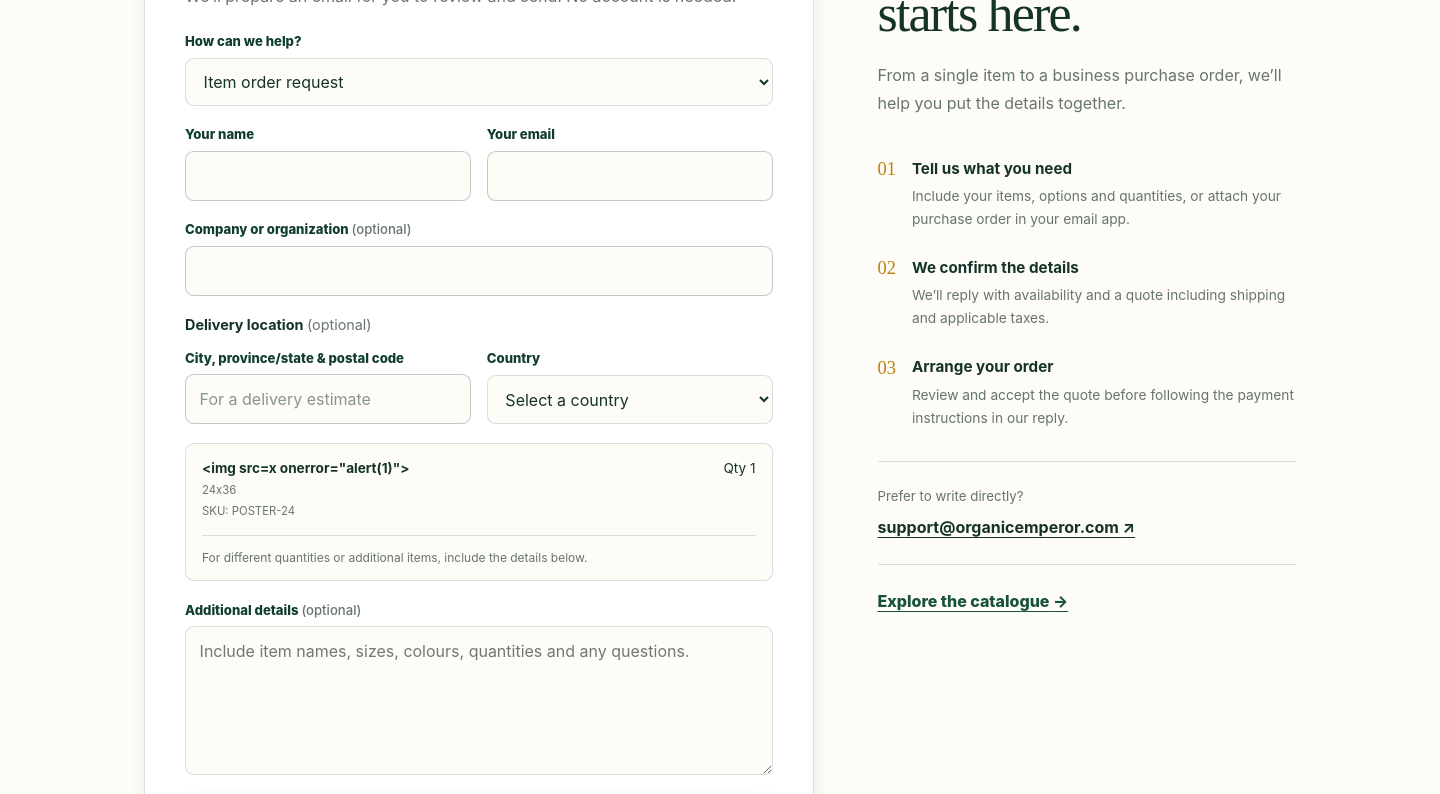
Test case: Contact portal › validates required fields and renders product query text without executing HTML
(page scrolled)
Submit the form
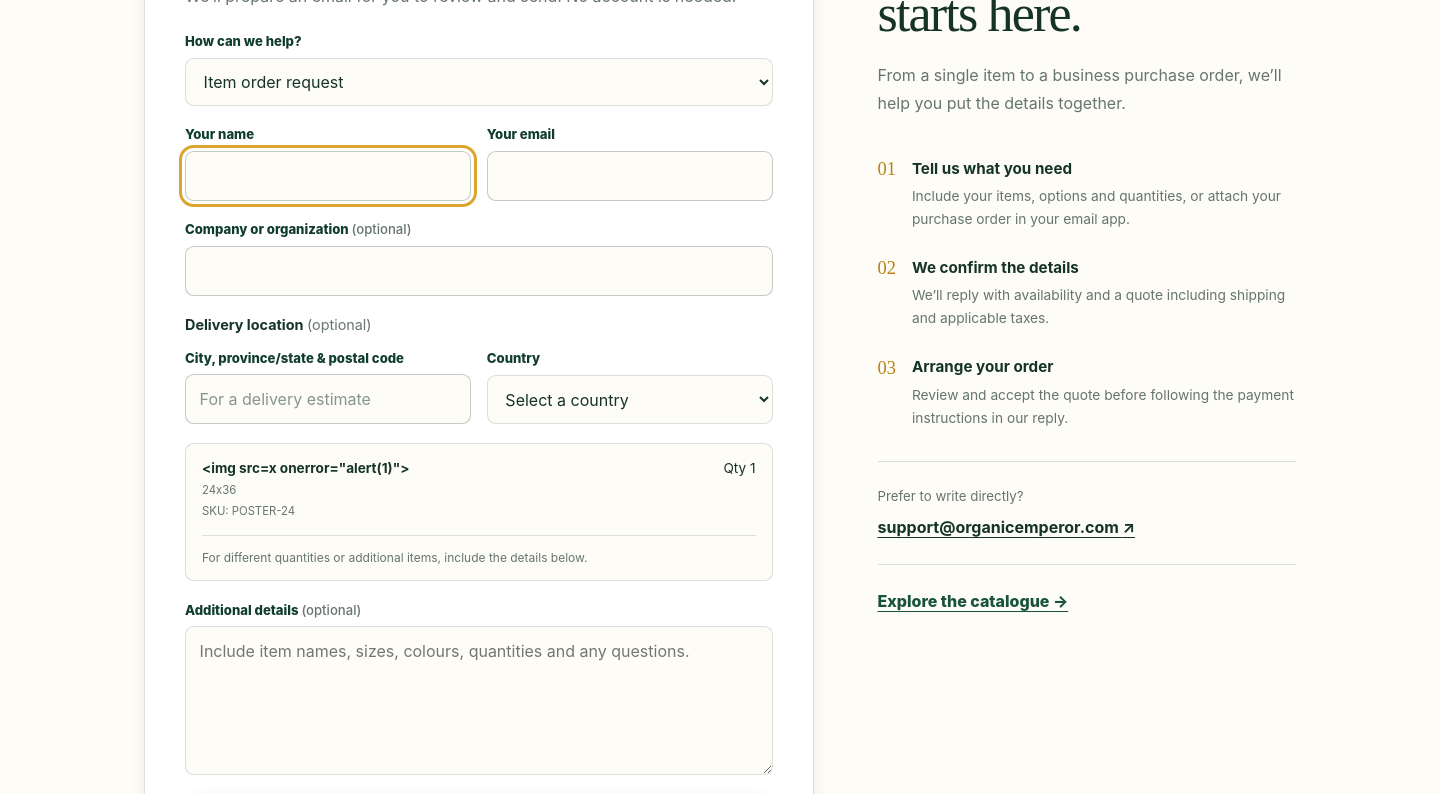
Type "Avery Stone" into the field with id "contact-name" at (328, 176), box [185,151,471,201]
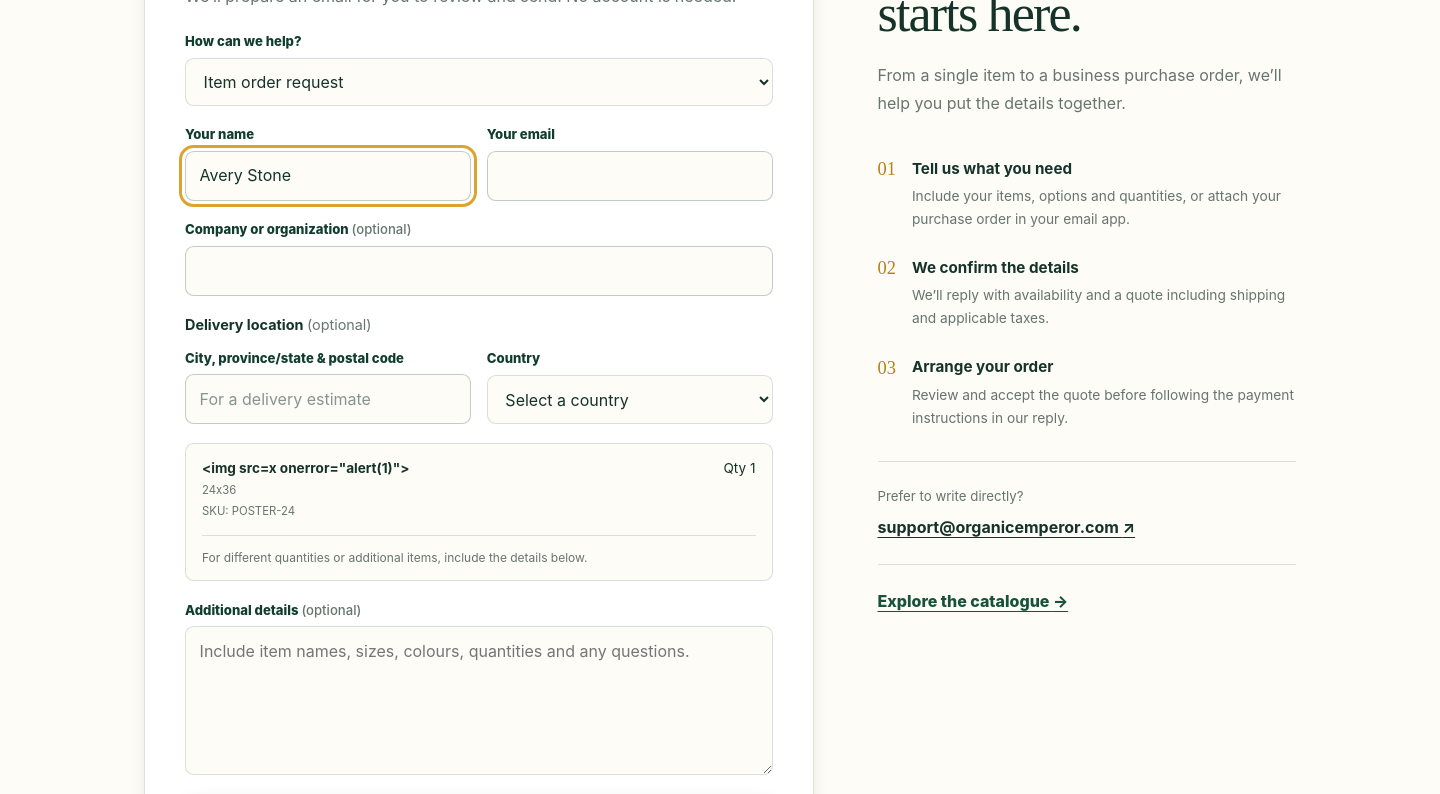
Type "avery@example.com" into the field with id "contact-email" at (630, 176), box [487,151,773,201]
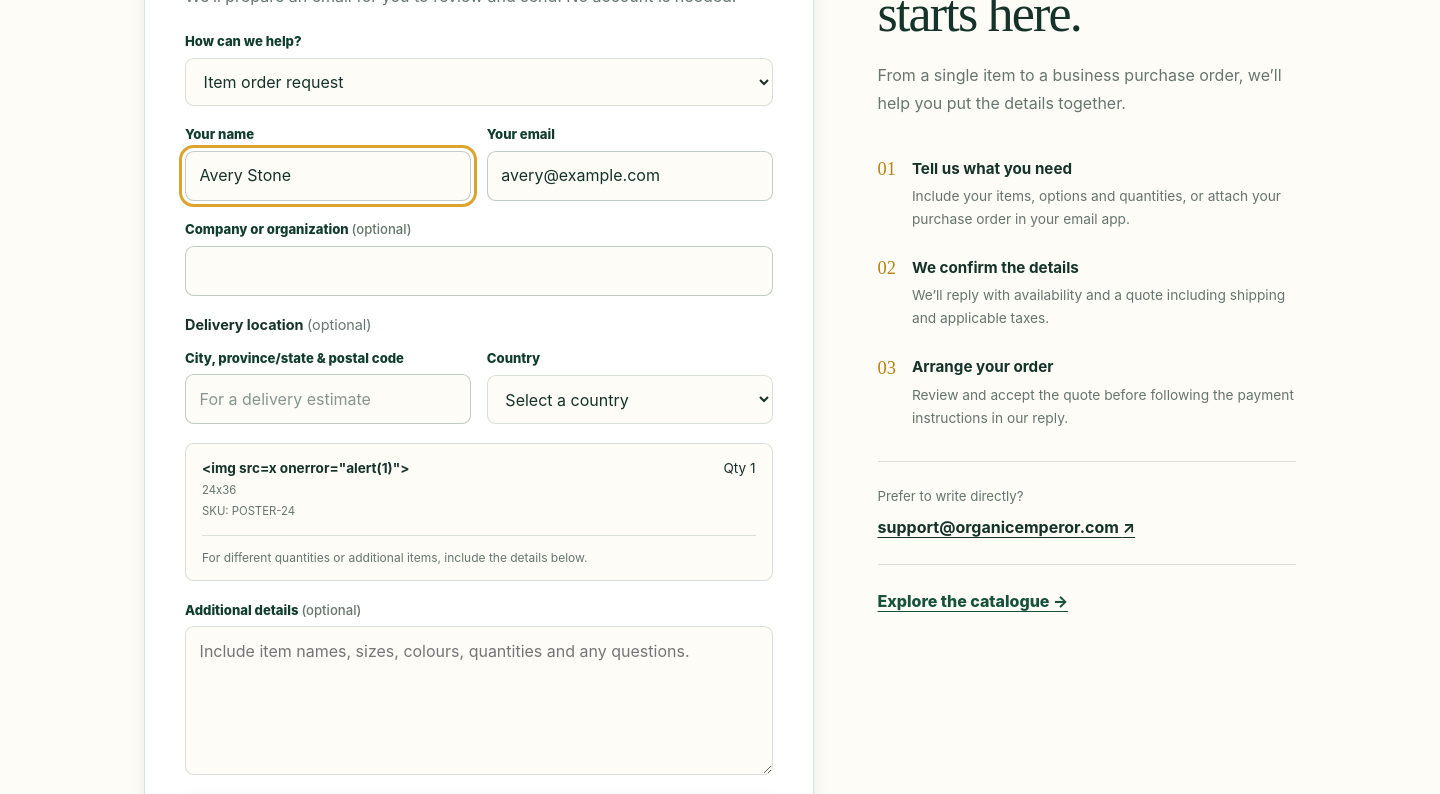
Submit the form
(page scrolled)
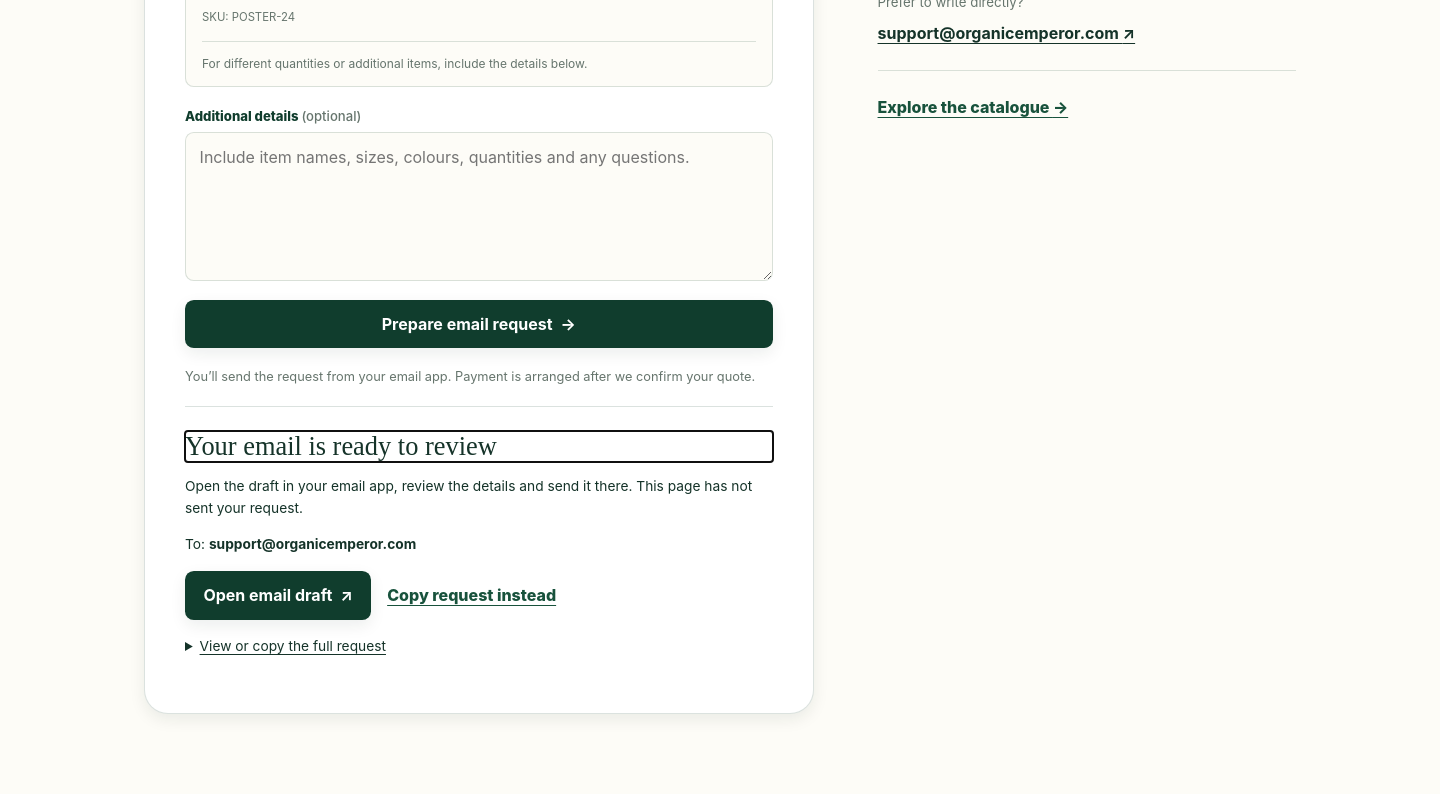
Expected: the text "support@organicemperor.com" is shown, [209,536,416,552]
